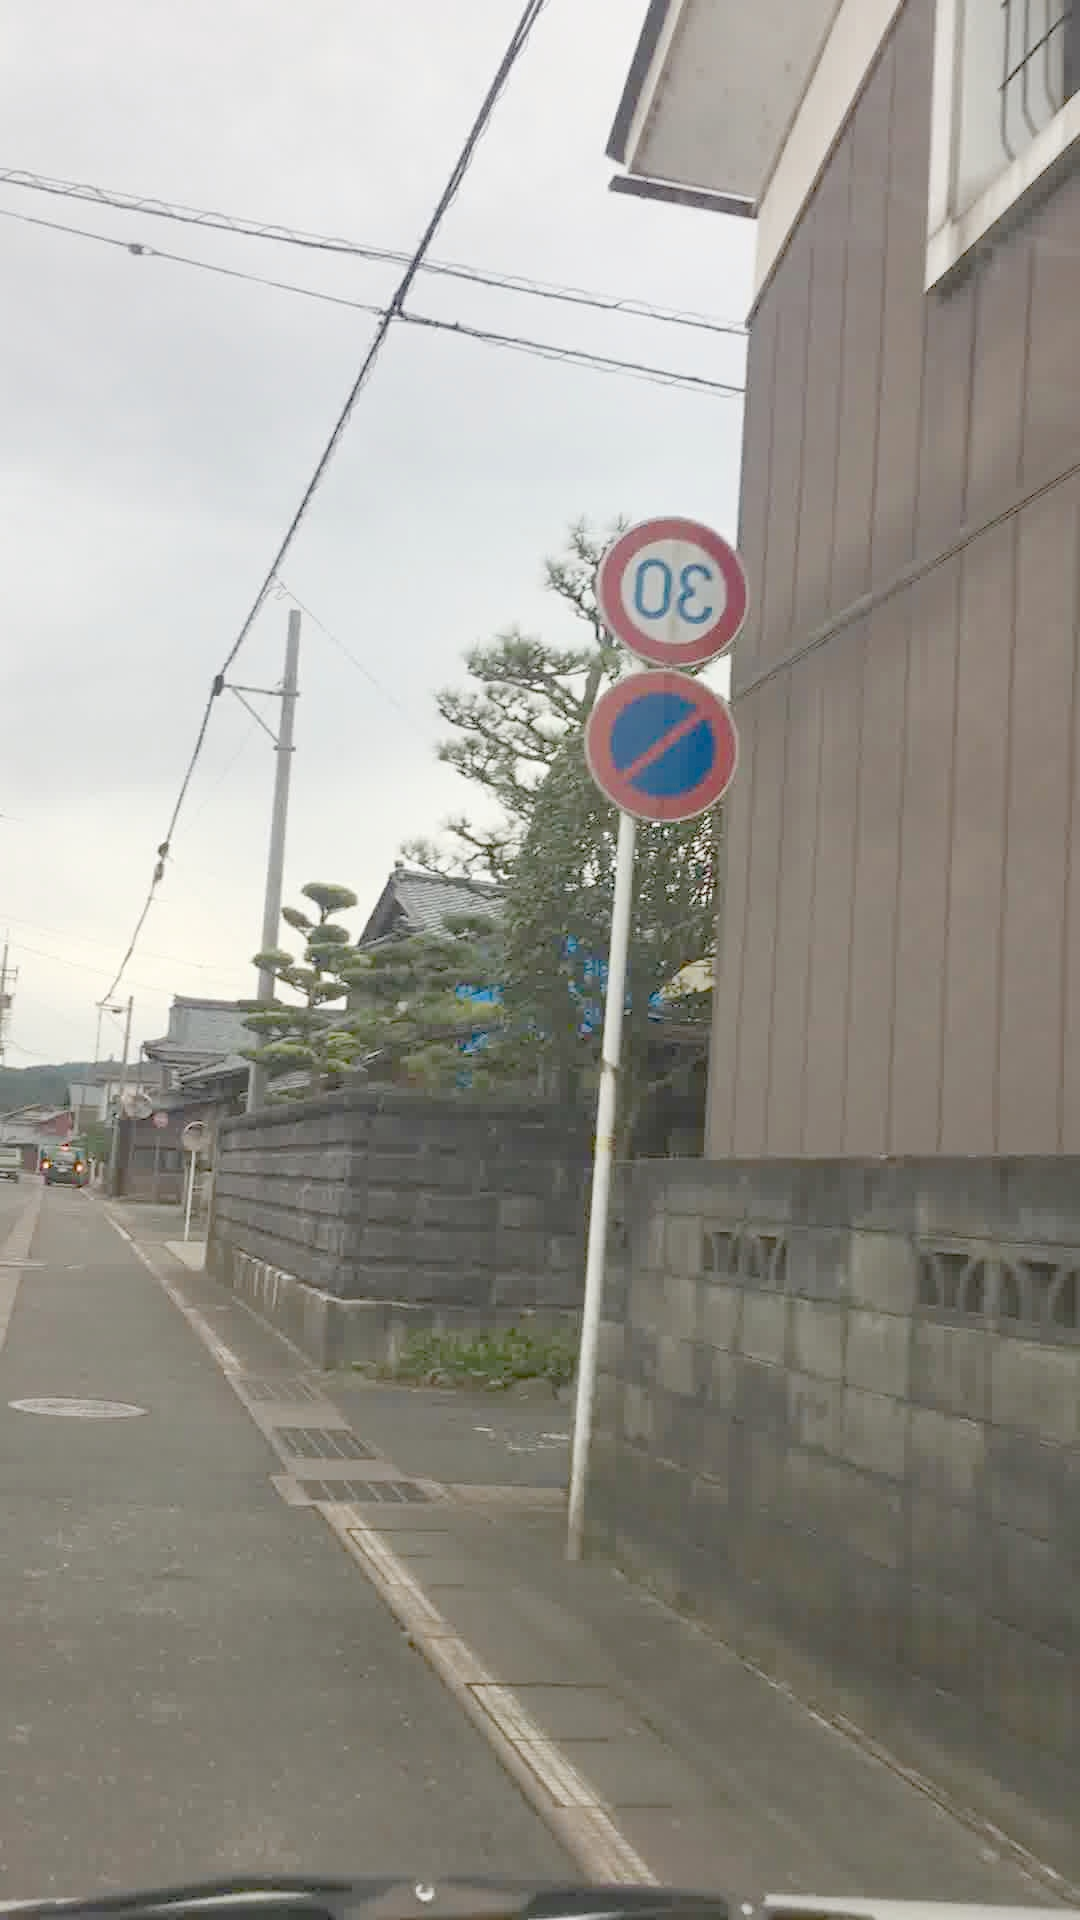Prohibition_sign: (580, 674, 742, 832)
Speed_sign: (592, 514, 766, 688)
